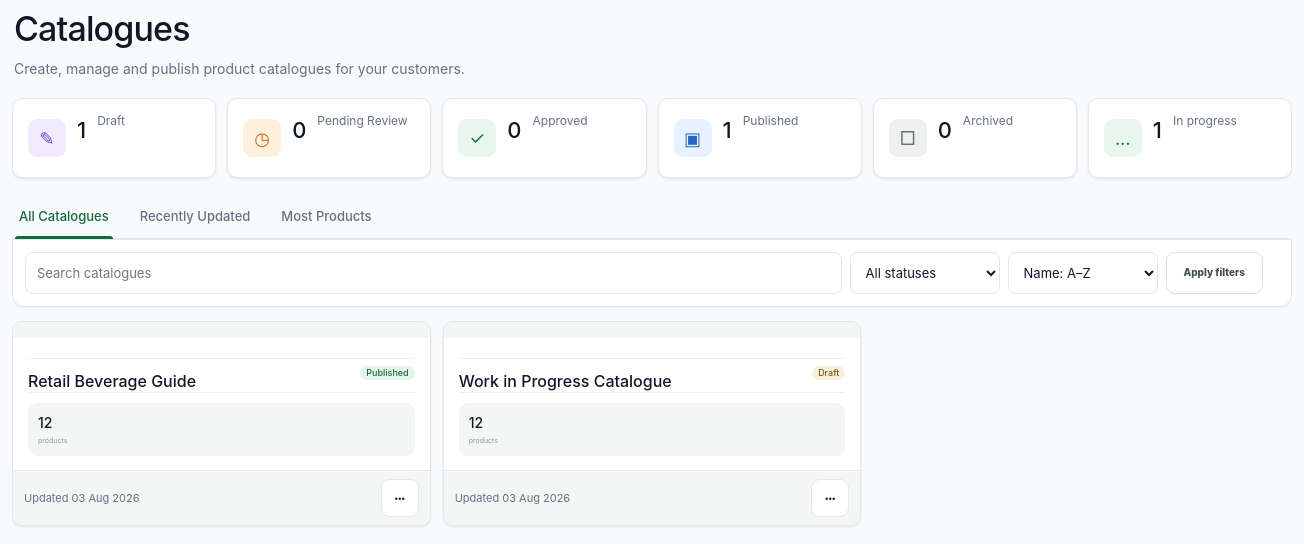
it: CatalogueManagement preview action › filters catalogue cards from the summary buttons and status dropdown
Expected: the heading "Work in Progress Catalogue" is shown, [459,371,672,392]
Click the button "▣ 1 Published" at (760, 138), box [658,98,862,178]
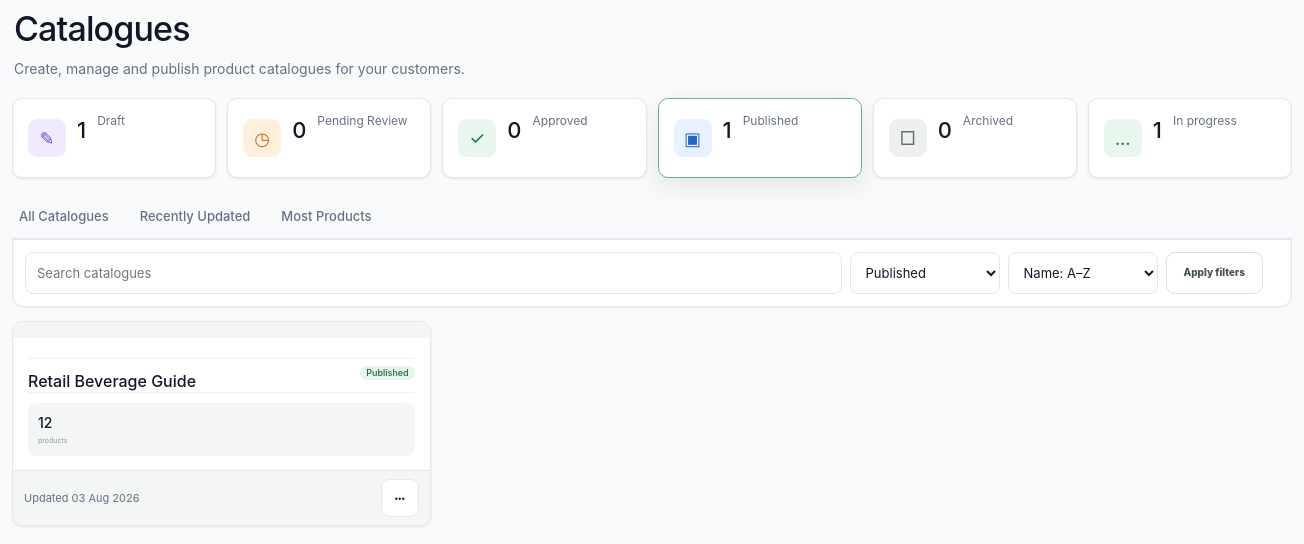
Expected: the heading "Retail Beverage Guide" is shown, [28,371,196,392]
Expected: the heading "Work in Progress Catalogue" is gone
Click the button "… 1 In progress" at (1190, 138), box [1088,98,1292,178]
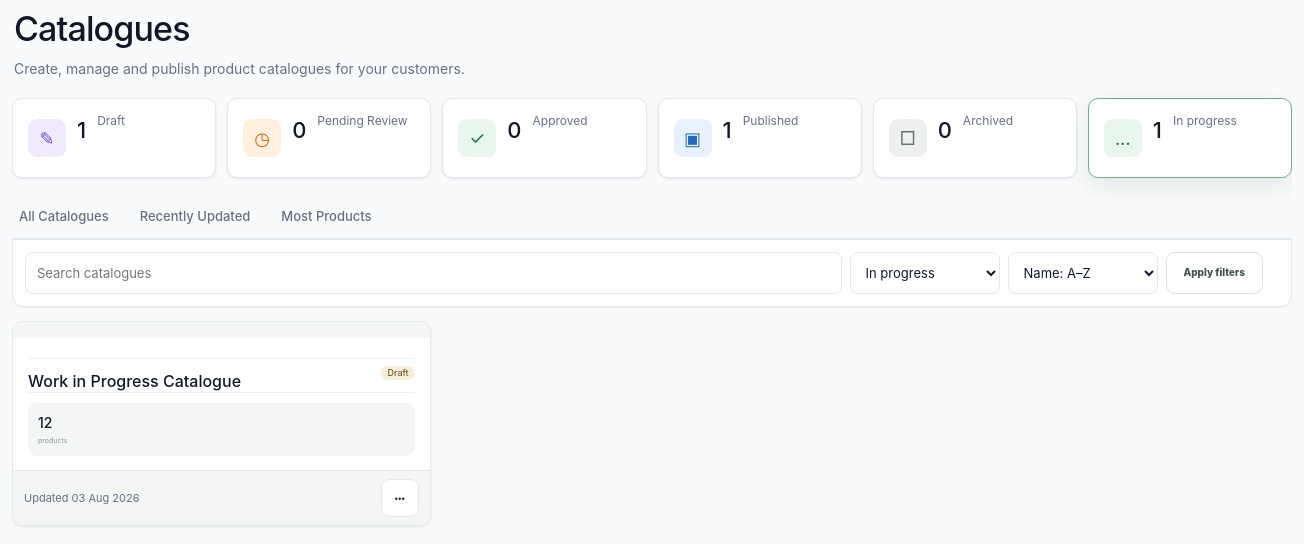
Expected: the heading "Retail Beverage Guide" is gone
Expected: the heading "Work in Progress Catalogue" is shown, [28,371,241,392]
Select "All statuses" in the dropdown named "Catalogue status" at (924, 273), box [850,252,1000,294]
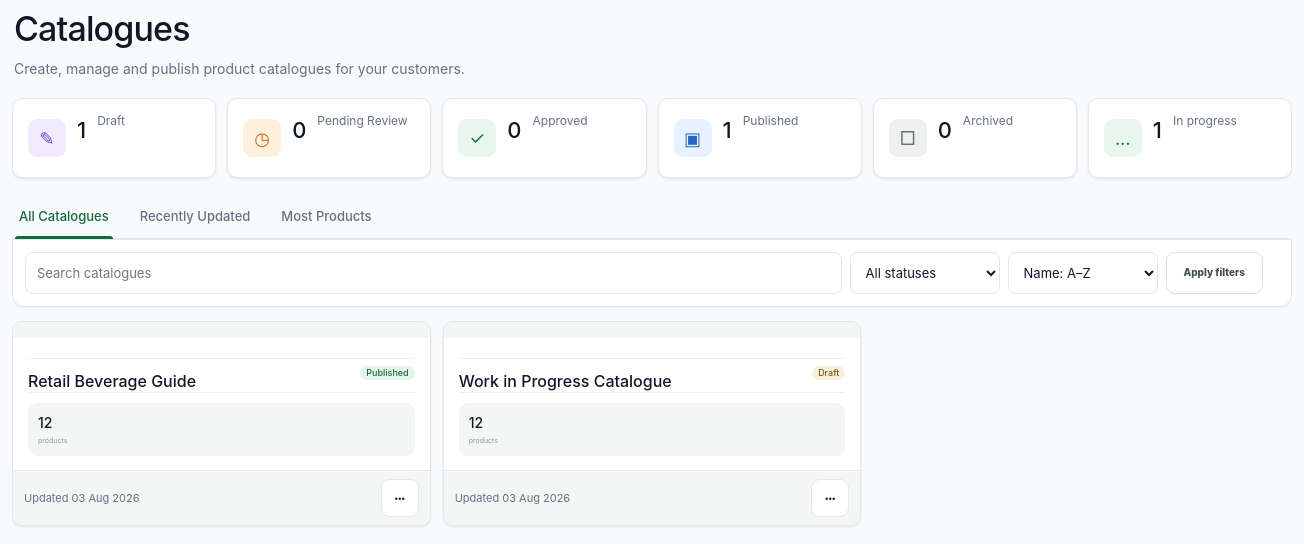
Expected: the heading "Work in Progress Catalogue" is shown, [459,371,672,392]
Expected: the heading "Retail Beverage Guide" is shown, [28,371,196,392]
